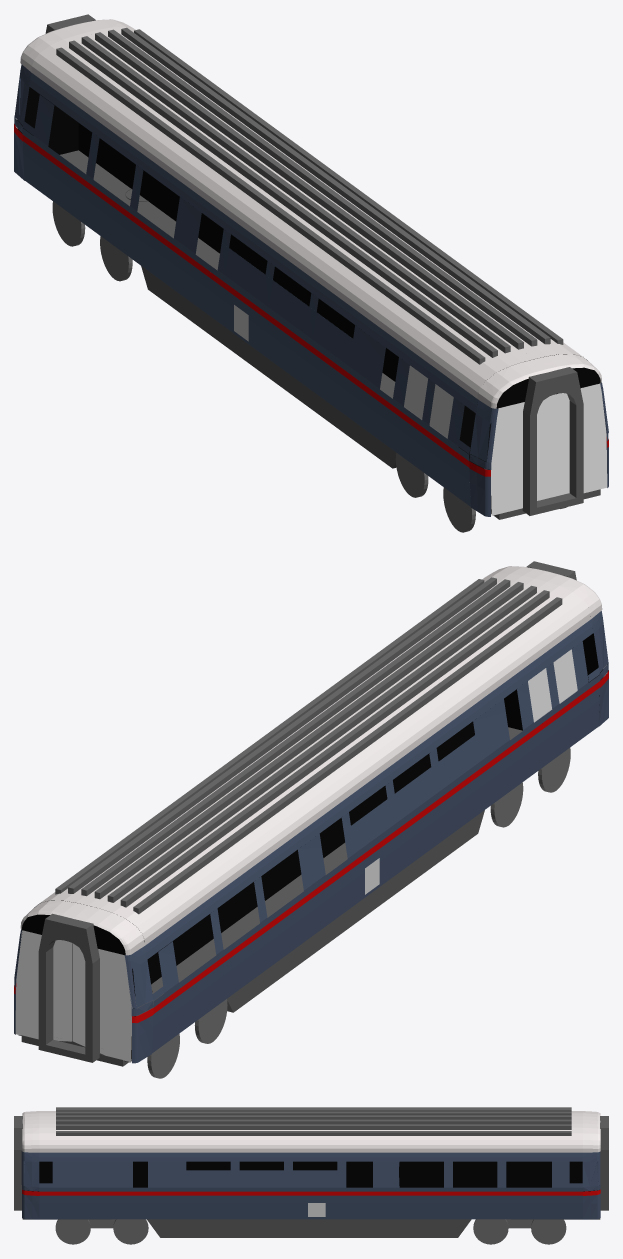
File: br-mk4-rsb-gner.dae
3 views of the same model, one above another, from view 1: azimuth 30°, elevation 25°; view 2: azimuth 150°, elevation 25°; view 3: azimuth 270°, elevation 25° (orthographic). The views are drawn at different scales.
Visible parts, largest first — view 1: Suzanne_001, Plane_134, Plane_100, Cube_002, Plane_111, Cube_008, Cube_004, Cube_003, Tube_002, Cube_009, Cube, Cube_010 (+20 smaller); view 2: Suzanne_001, Plane_134, Plane_001, Plane_111, Tube_003, Cube_002, Cube_008, Cube_004, Cube_003, Cube_009, Cube, Cube_010 (+19 smaller); view 3: Plane_007, Suzanne_001, Plane_111, Cube, Plane_153, Cube_009, Cube_010, Plane_022, Plane_005, Plane_152, Plane_160, Cube_004 (+27 smaller).
Part boxes in pixels (box(x1,y1,x2,y2)): Suzanne_001: box(31, 27, 587, 398); Plane_134: box(23, 141, 470, 506); Plane_100: box(491, 383, 607, 515); Cube_002: box(69, 40, 497, 357); Plane_111: box(78, 123, 398, 381); Cube_008: box(95, 32, 523, 349); Cube_004: box(81, 36, 510, 353); Cube_003: box(56, 47, 485, 364); Tube_002: box(522, 367, 583, 515); Cube_009: box(108, 29, 537, 346); Cube: box(141, 266, 396, 468); Cube_010: box(121, 27, 550, 344); Suzanne_001: box(34, 573, 590, 945); Plane_134: box(152, 688, 599, 1053); Plane_001: box(15, 930, 132, 1062); Plane_111: box(72, 721, 474, 1041); Tube_003: box(38, 913, 99, 1062); Cube_002: box(120, 590, 549, 907); Cube_008: box(94, 582, 523, 899); Cube_004: box(107, 585, 536, 902); Cube_003: box(133, 597, 562, 914); Cube_009: box(81, 579, 510, 896); Cube: box(227, 810, 484, 1012); Cube_010: box(68, 577, 496, 893); Plane_007: box(39, 1195, 582, 1219); Suzanne_001: box(39, 1111, 582, 1152); Plane_111: box(24, 1161, 597, 1191); Cube: box(147, 1219, 471, 1237); Plane_153: box(39, 1152, 582, 1157); Cube_009: box(56, 1119, 571, 1124); Cube_010: box(56, 1124, 571, 1129); Plane_022: box(39, 1187, 583, 1191); Plane_005: box(39, 1191, 582, 1195); Plane_152: box(39, 1157, 582, 1161); Plane_160: box(186, 1161, 346, 1187); Cube_004: box(56, 1111, 571, 1115).
Bounding box in the file's own units: 2.07 × 13.39 × 2.81.
